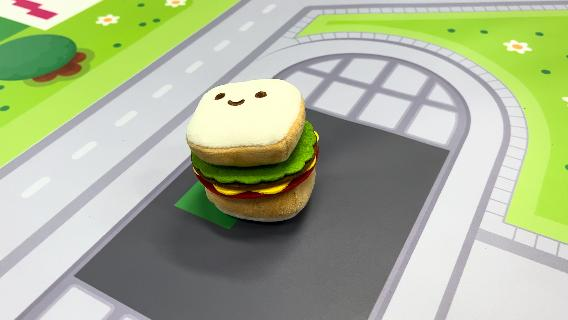sandwich: (185, 76, 322, 224)
